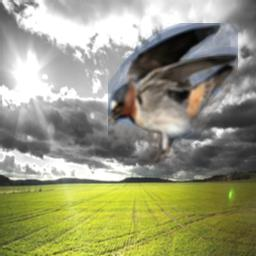Swallow: (108, 23, 238, 163)
